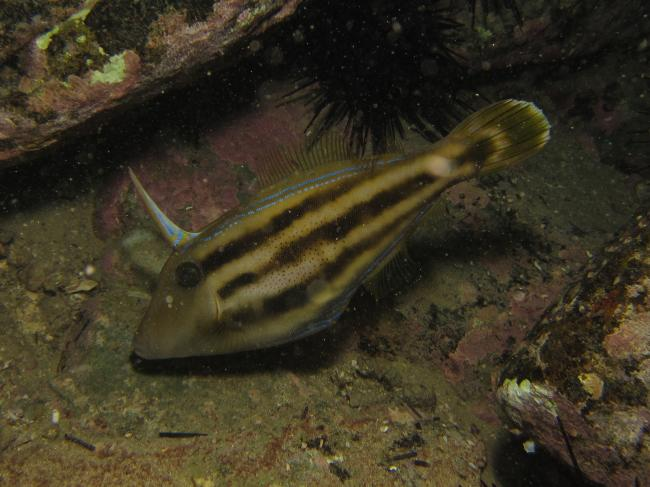fish: (129, 97, 554, 360)
